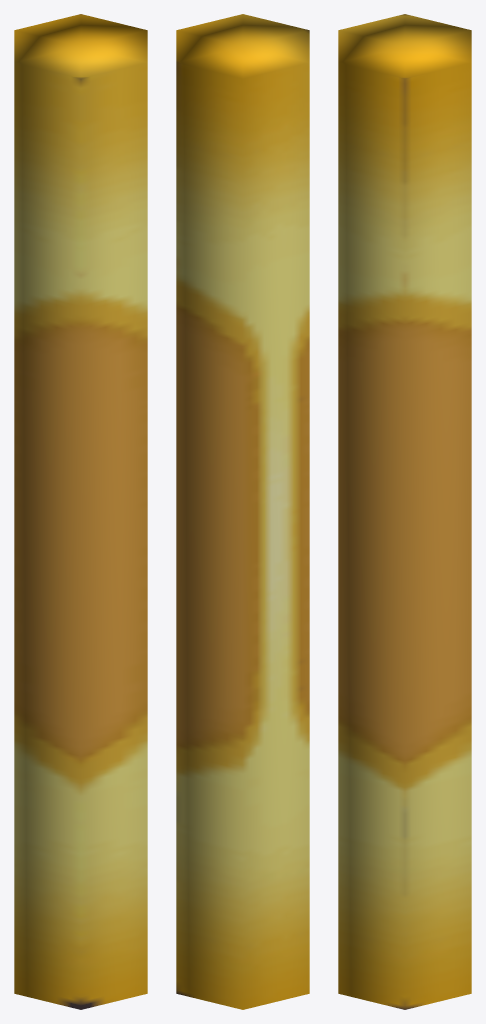
The model's file is Truc10.fbx.
3 renders of one model, left to right at view 1: azimuth 90°, elevation 25°; view 2: azimuth 210°, elevation 25°; view 3: azimuth 270°, elevation 25°, orthographic.
Visible parts, largest first — view 1: polySurface1; view 2: polySurface1; view 3: polySurface1.
Boxes of the visible parts, x1,y1,x2,y2 form: polySurface1: [14, 14, 147, 1009]; polySurface1: [176, 14, 309, 1009]; polySurface1: [338, 14, 471, 1009].
Size of the model in its own units: 0.3643 by 2.44 by 0.3155.
